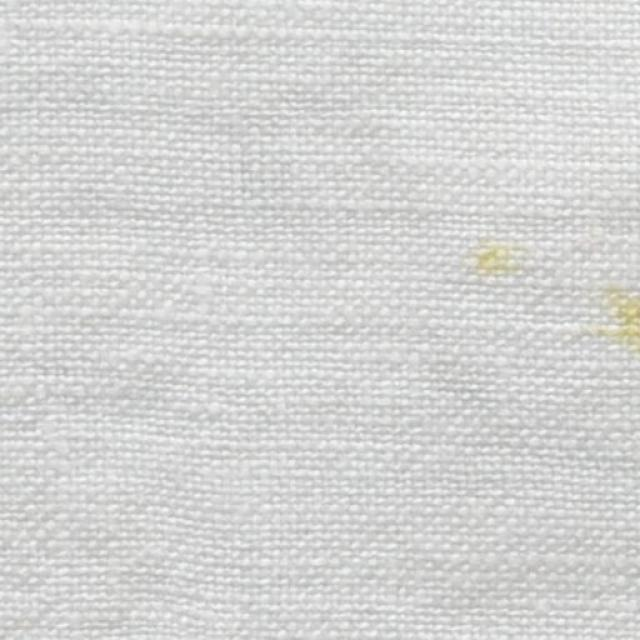Stain: (474, 241, 522, 290), (604, 296, 639, 345)
